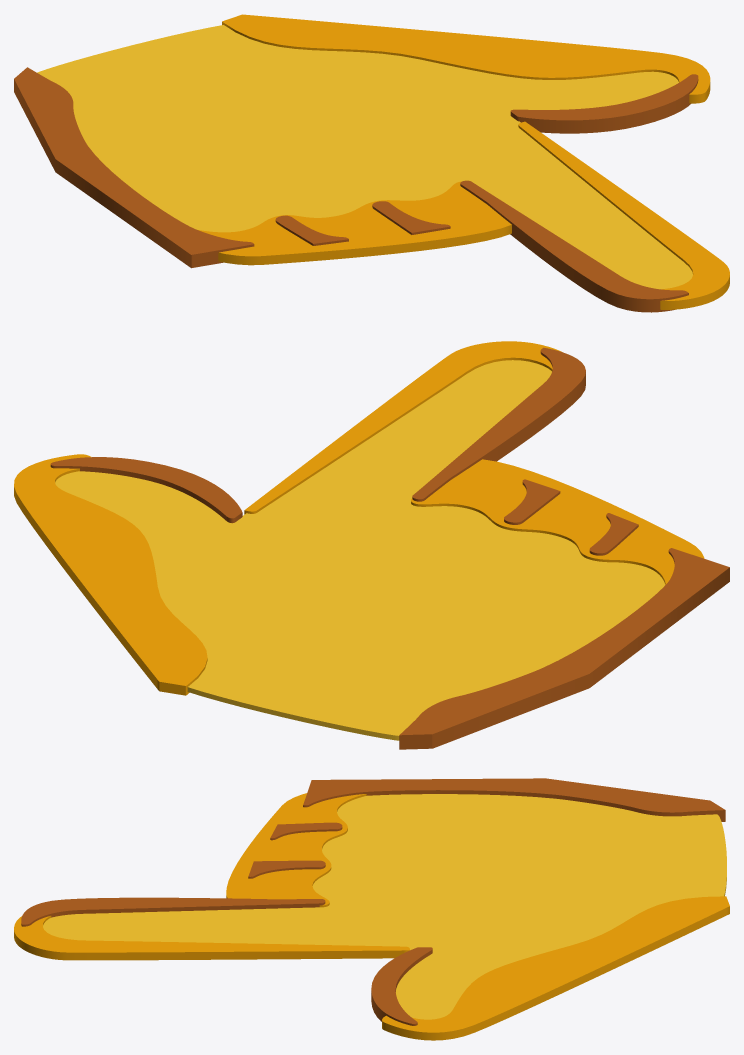
The model's file is emoji_u1f447.glb.
The picture shows the model from 3 angles, top to bottom: view 1: azimuth 30°, elevation 25°; view 2: azimuth 150°, elevation 25°; view 3: azimuth 270°, elevation 25°; orthographic projection. The views are drawn at different scales.
Visible parts, largest first — view 1: emoji_u1f447; view 2: emoji_u1f447; view 3: emoji_u1f447.
Boxes of the visible parts, x1,y1,x2,y2 form: emoji_u1f447: (14,14,729,312); emoji_u1f447: (14,341,729,749); emoji_u1f447: (14,778,729,1040).
Bounding box in the file's own units: 0.0276 × 0.0006 × 0.0331.
